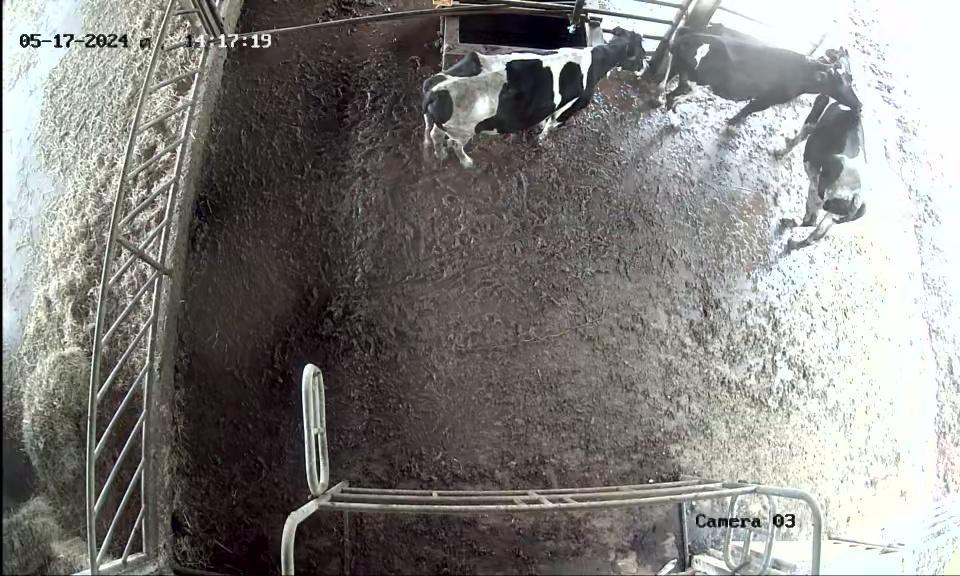propping: (788, 48, 867, 127)
stand: (402, 25, 659, 169), (783, 43, 878, 253)
